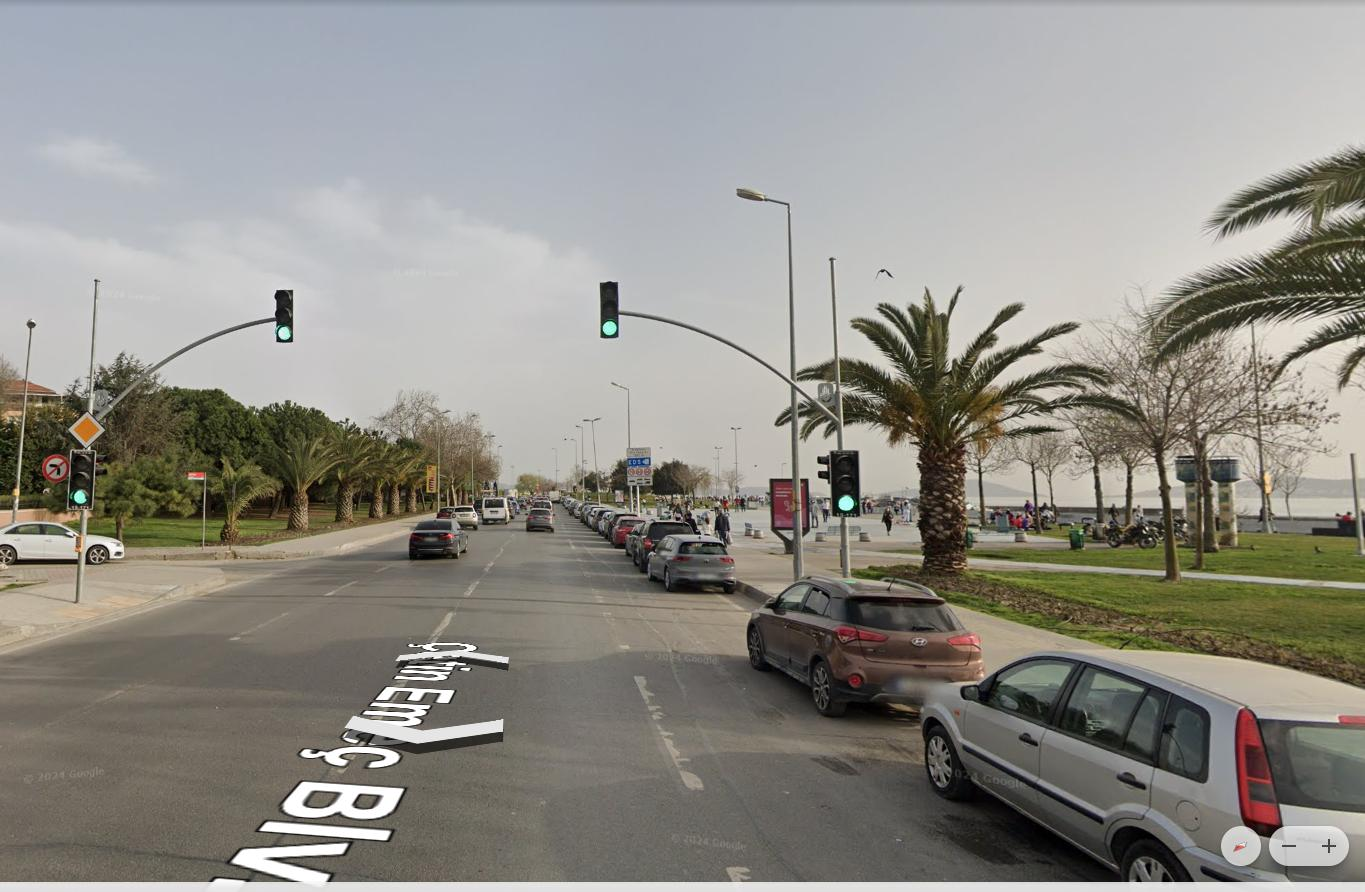greenlight: (833, 449, 859, 514), (71, 450, 94, 508), (601, 281, 620, 339), (275, 289, 295, 341)
leftturnsareforbidden: (44, 455, 67, 483)
